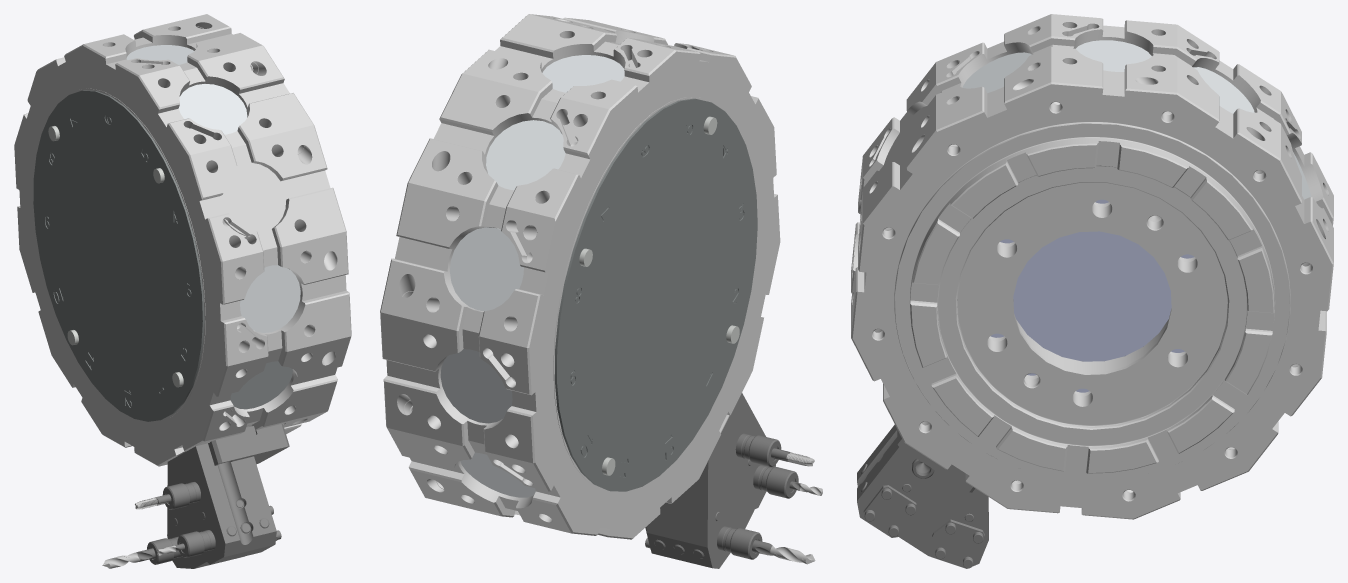
File: Turret Assembly Clean (Mesh).obj
3 renders of one model, left to right at view 1: azimuth 30°, elevation 25°; view 2: azimuth 150°, elevation 25°; view 3: azimuth 270°, elevation 25°, orthographic. The views are drawn at different scales.
Parts seen in each view (by area): view 1: Body1, Body1:1, Body1:2, Body1:4, Body1:3; view 2: Body1, Body1:1, Body1:2, Body1:4, Body1:3; view 3: Body1, Body1:1.
Part boxes in pixels (x1,y1,x2,y2): Body1: (14, 14, 351, 466); Body1:1: (167, 424, 289, 568); Body1:2: (177, 530, 215, 557); Body1:4: (162, 482, 200, 509); Body1:3: (147, 536, 182, 564); Body1: (380, 14, 780, 539); Body1:1: (645, 393, 775, 568); Body1:2: (753, 465, 798, 498); Body1:4: (735, 433, 781, 466); Body1:3: (717, 526, 762, 559); Body1: (851, 14, 1333, 519); Body1:1: (857, 424, 988, 568).
Size of the model in its own units: 23.13 by 47.58 by 39.53.
